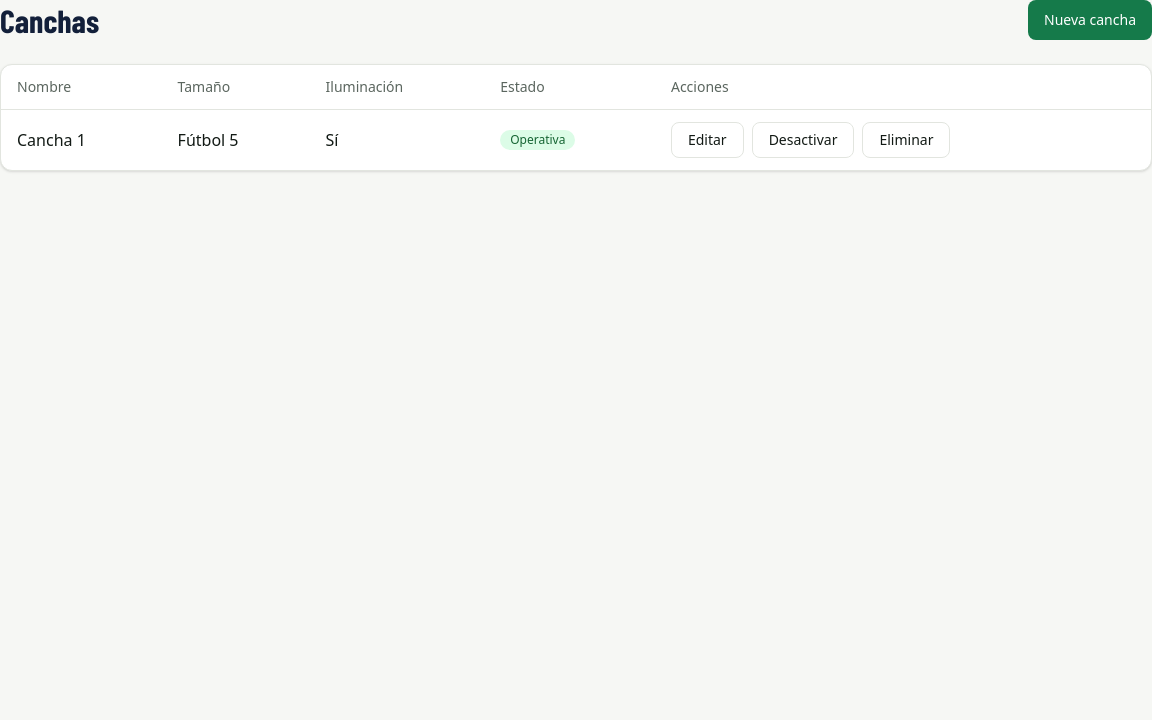
Test: Canchas › al recibir 409 al desactivar muestra las reservas afectadas y Desactivar igual confirma
Click the button "Desactivar": [803, 140] box [752, 122, 854, 158]
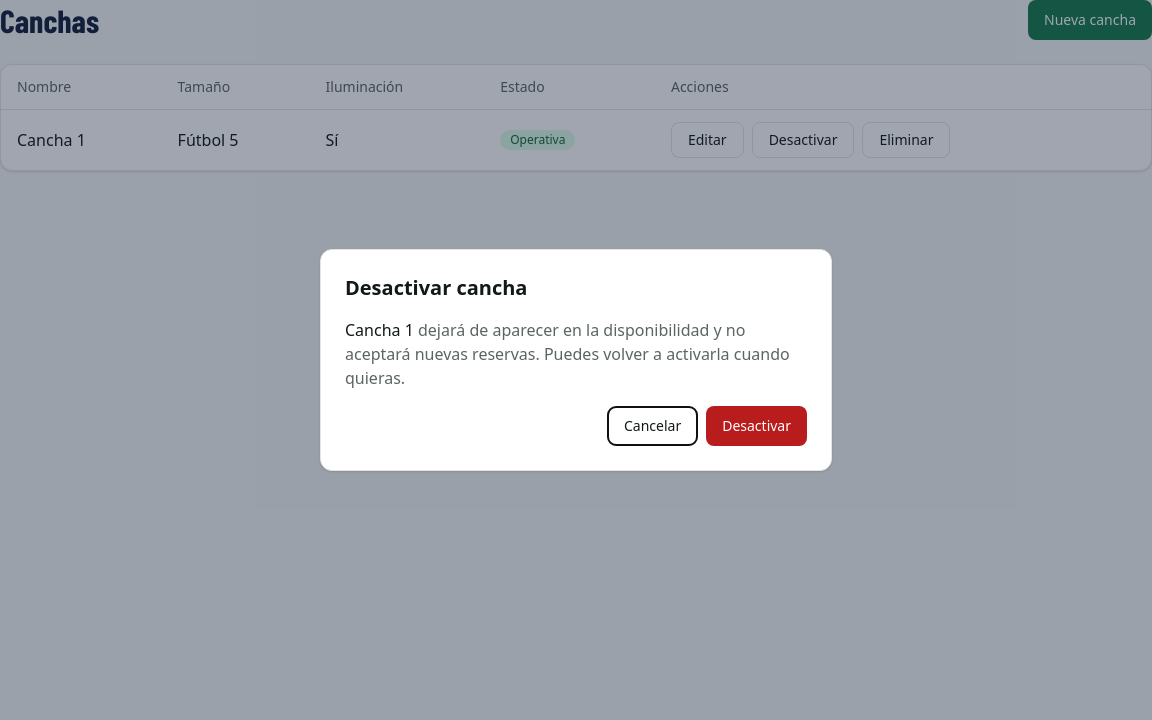
Click the button "Desactivar": [757, 426] box [706, 406, 807, 446]
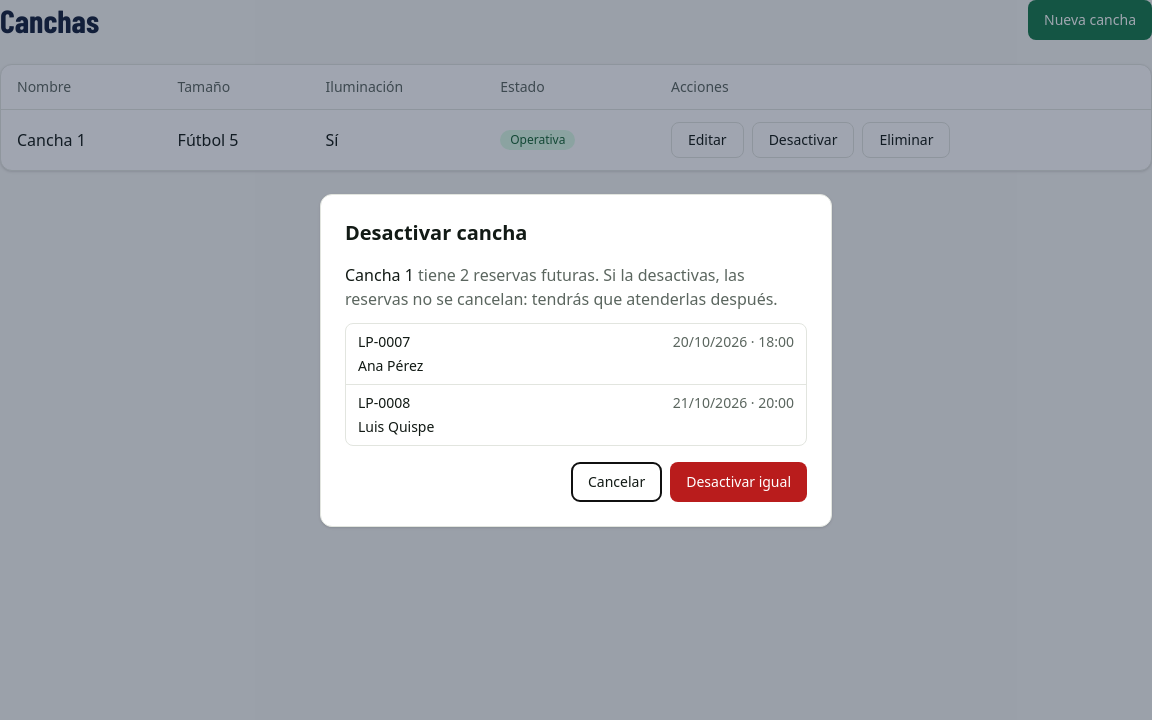
expect the number of list items is 2: met, box [346, 324, 806, 384]; [346, 384, 806, 444]
expect the list item "LP-0007 20/10/2026 · 18:00 Ana Pérez" is shown: met, box [346, 324, 806, 384]
Click the button "Desactivar igual": [739, 482] box [670, 462, 807, 502]
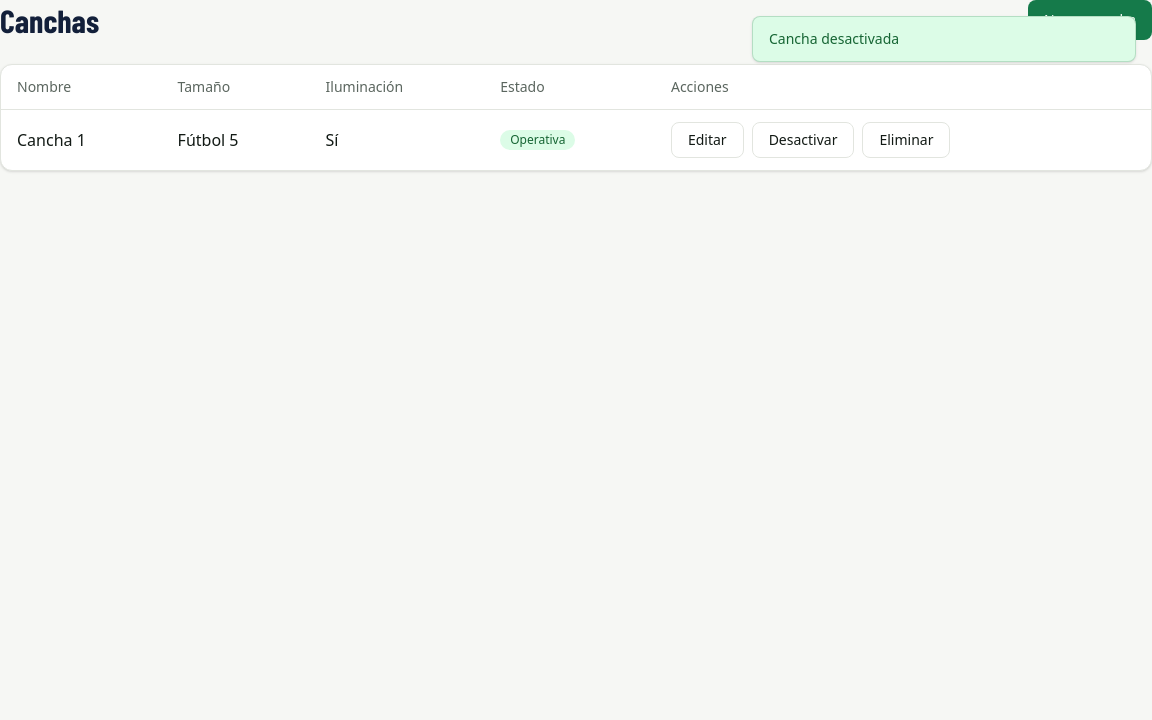
expect the message reads "Cancha desactivada": met, box [769, 29, 899, 48]
expect the dialog is gone: met
